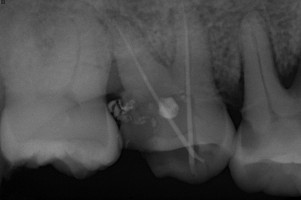Endo-Periodontal Lesion: (274, 53, 301, 88)
